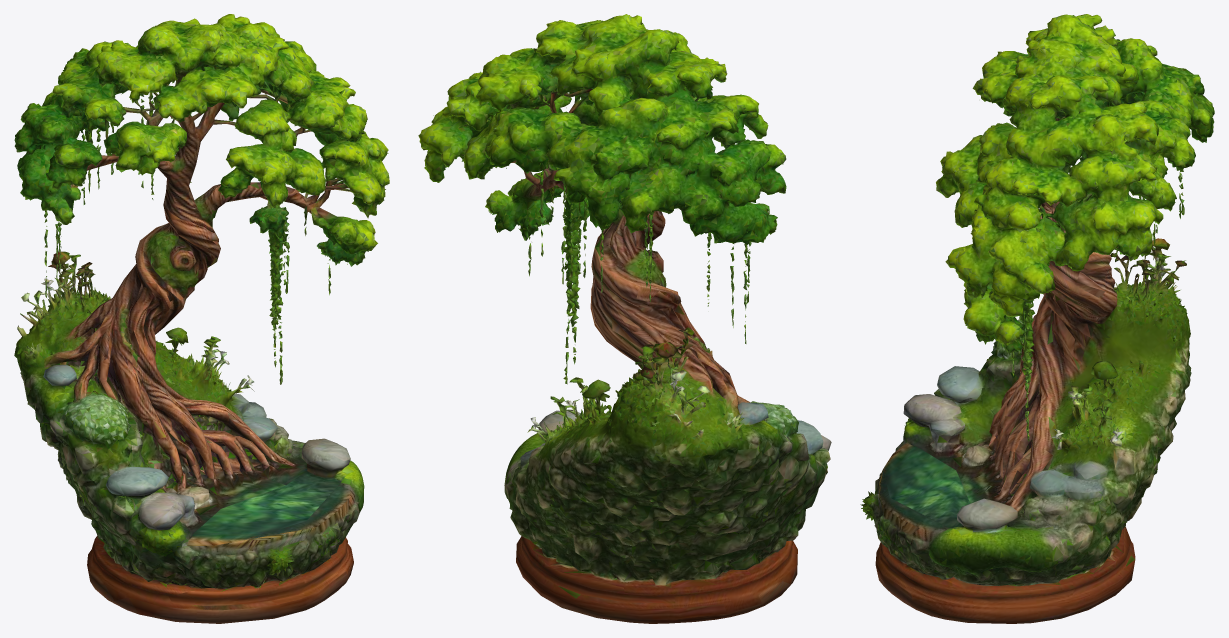
The model's file is Whispering_Willow_of_.glb.
The picture shows the model from 3 angles, left to right: view 1: azimuth 30°, elevation 25°; view 2: azimuth 150°, elevation 25°; view 3: azimuth 270°, elevation 25°; orthographic projection. The views are drawn at different scales.
Parts seen in each view (by area): view 1: Whispering_Willow_of_; view 2: Whispering_Willow_of_; view 3: Whispering_Willow_of_.
Part boxes in pixels (left/top/right/bottom): Whispering_Willow_of_: left=14, top=14, right=389, bottom=623; Whispering_Willow_of_: left=418, top=14, right=831, bottom=623; Whispering_Willow_of_: left=860, top=14, right=1214, bottom=623.
Bounding box in the file's own units: 1.25 × 1.9 × 1.13.
Materials: 1 (1 with a texture image).
